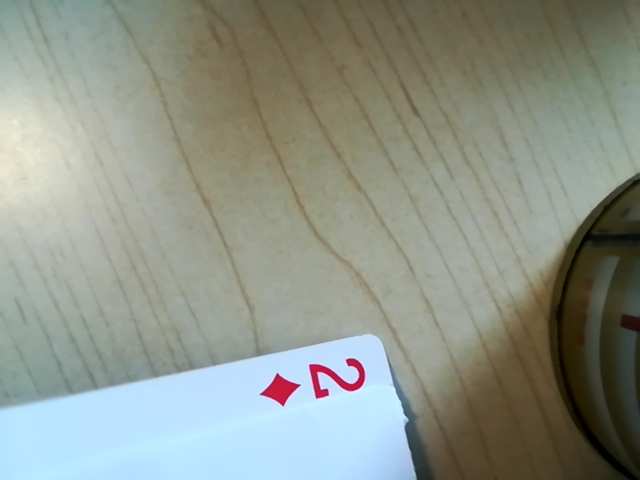fk 2: (257, 353, 383, 409)
